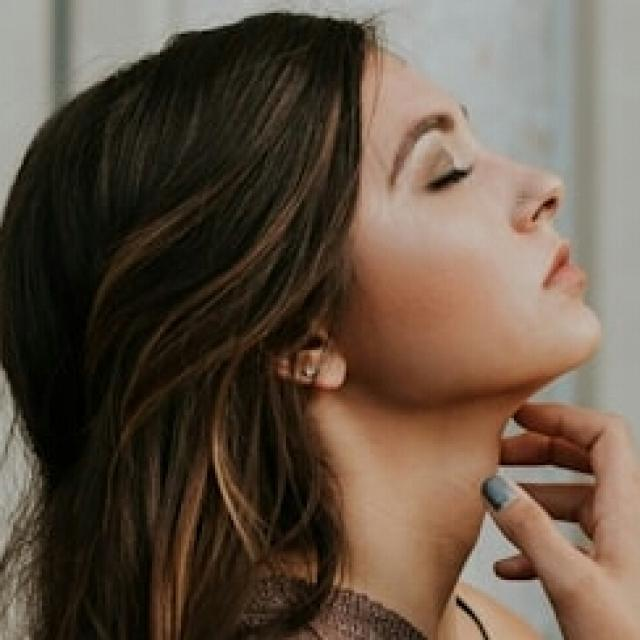front: (337, 75, 600, 360)
